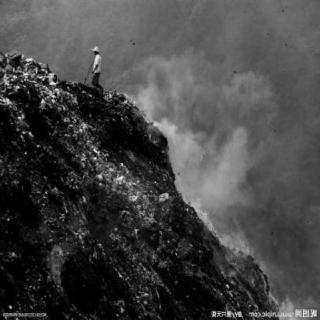Fire: (134, 93, 154, 120)
